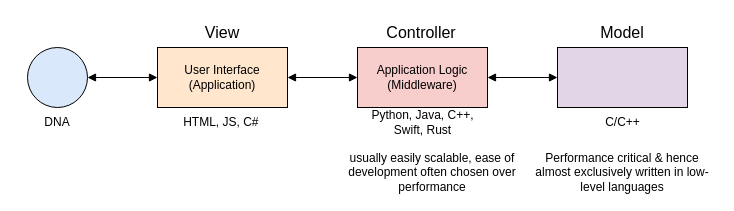
This 734x211 diagram has some shape labels left out. The shapes that lost their labels are listed below. From the top down, each one's centre as x and y in pixels, then its label:
At pixel 57 77: "User".
At pixel 622 77: "Data Management System".
